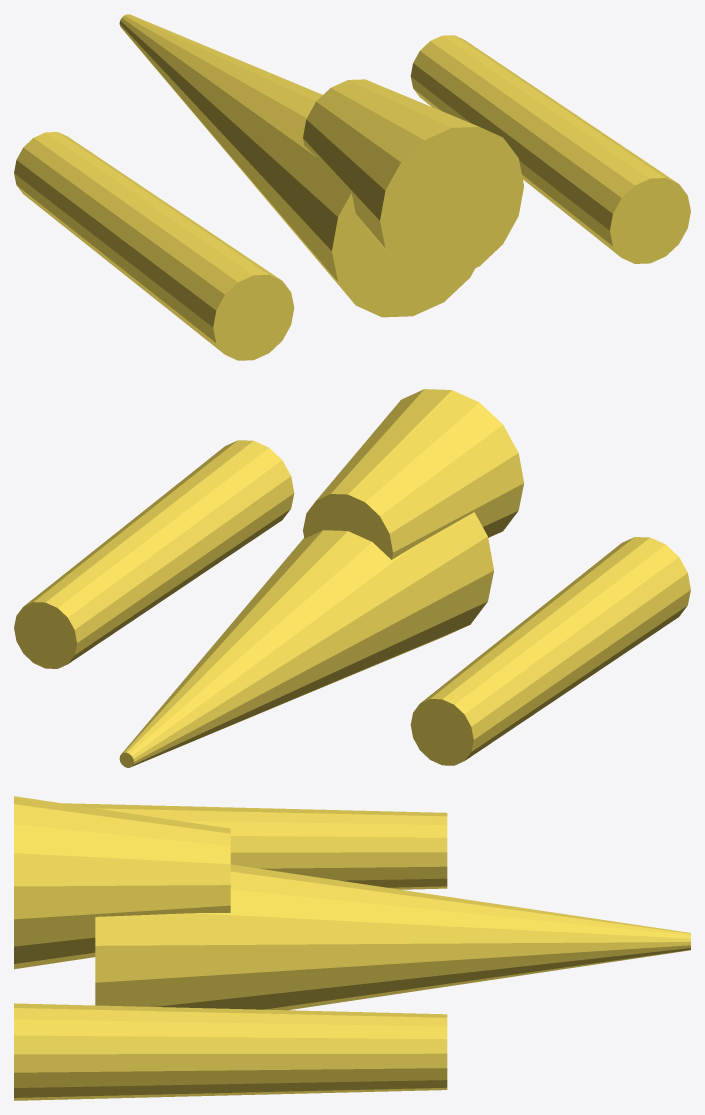
File: naboo_greenhouse.glb
3 renders of one model, top to bottom at view 1: azimuth 30°, elevation 25°; view 2: azimuth 150°, elevation 25°; view 3: azimuth 270°, elevation 25°, orthographic. The views are drawn at different scales.
Parts seen in each view (by area): view 1: Naboo_Greenhouse; view 2: Naboo_Greenhouse; view 3: Naboo_Greenhouse.
Boxes of the visible parts, box(x1,y1,x2,y2) form: Naboo_Greenhouse: box(14, 14, 690, 360); Naboo_Greenhouse: box(14, 389, 690, 767); Naboo_Greenhouse: box(14, 796, 690, 1100).
Bounding box in the file's own units: 5.3 × 2.3 × 6.25.
